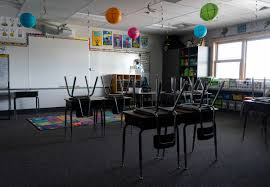desk: (121, 108, 183, 172), (165, 100, 220, 164), (62, 94, 104, 137), (11, 89, 42, 116)
